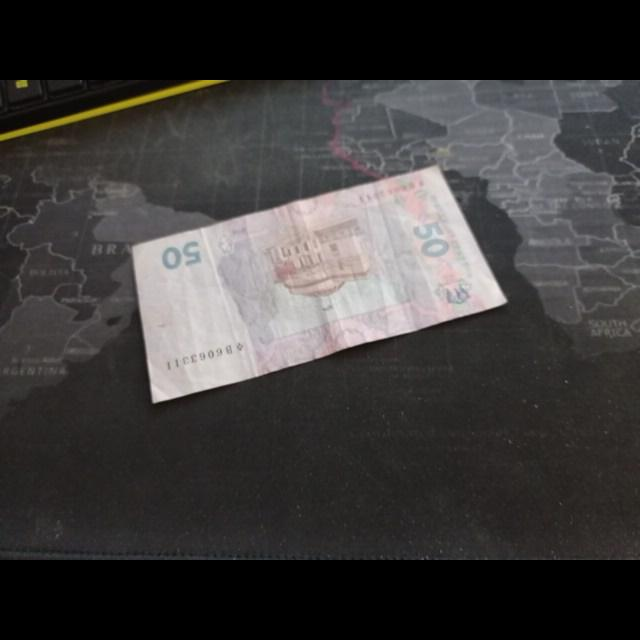50uah: (131, 166, 510, 406)
